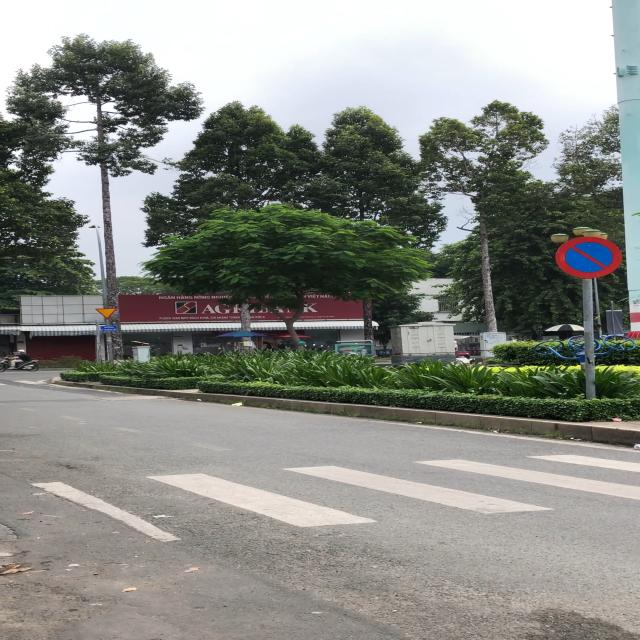Bien bao cam do xe: (552, 236, 626, 280)
Bien bao giao nhau voi duong uu tien: (93, 306, 119, 321)
